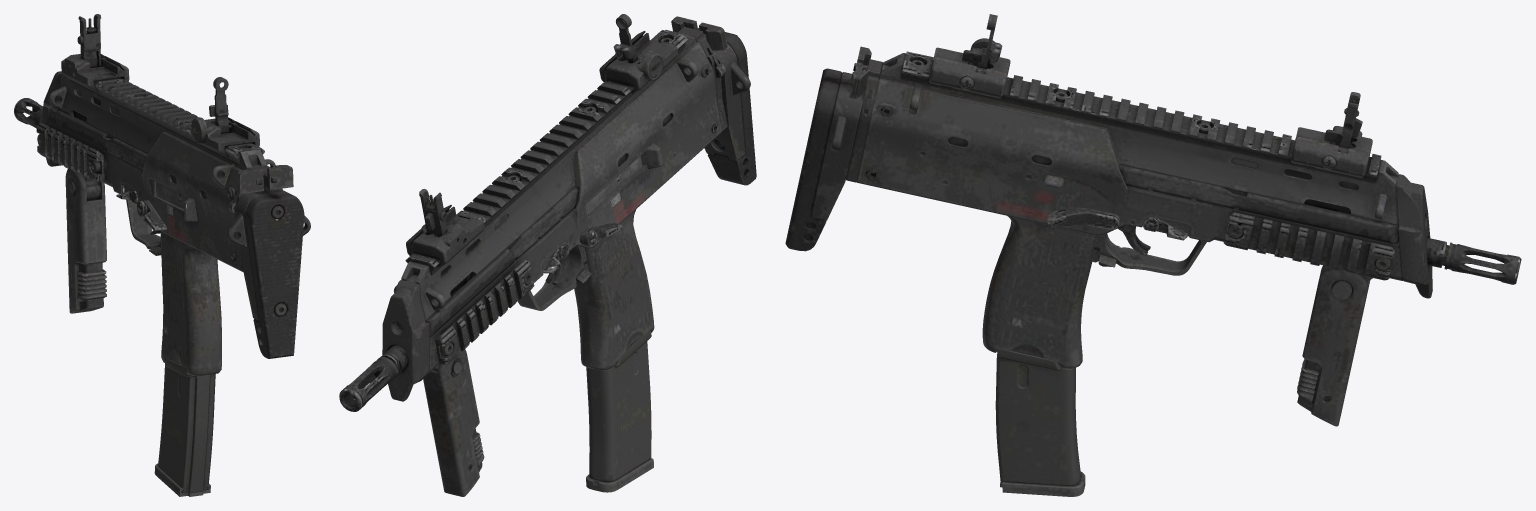
The picture shows the model from 3 angles, left to right: view 1: azimuth 30°, elevation 25°; view 2: azimuth 150°, elevation 25°; view 3: azimuth 270°, elevation 25°; orthographic projection. The views are drawn at different scales.
Visible parts, largest first — view 1: p_mp7; view 2: p_mp7; view 3: p_mp7.
Part boxes in pixels (x1,y1,x2,y2): p_mp7: [14, 14, 310, 496]; p_mp7: [339, 14, 756, 496]; p_mp7: [785, 14, 1521, 496].
Bounding box in the file's own units: 0.1011 × 0.3667 × 0.5071.
1 material, 1 textured.
